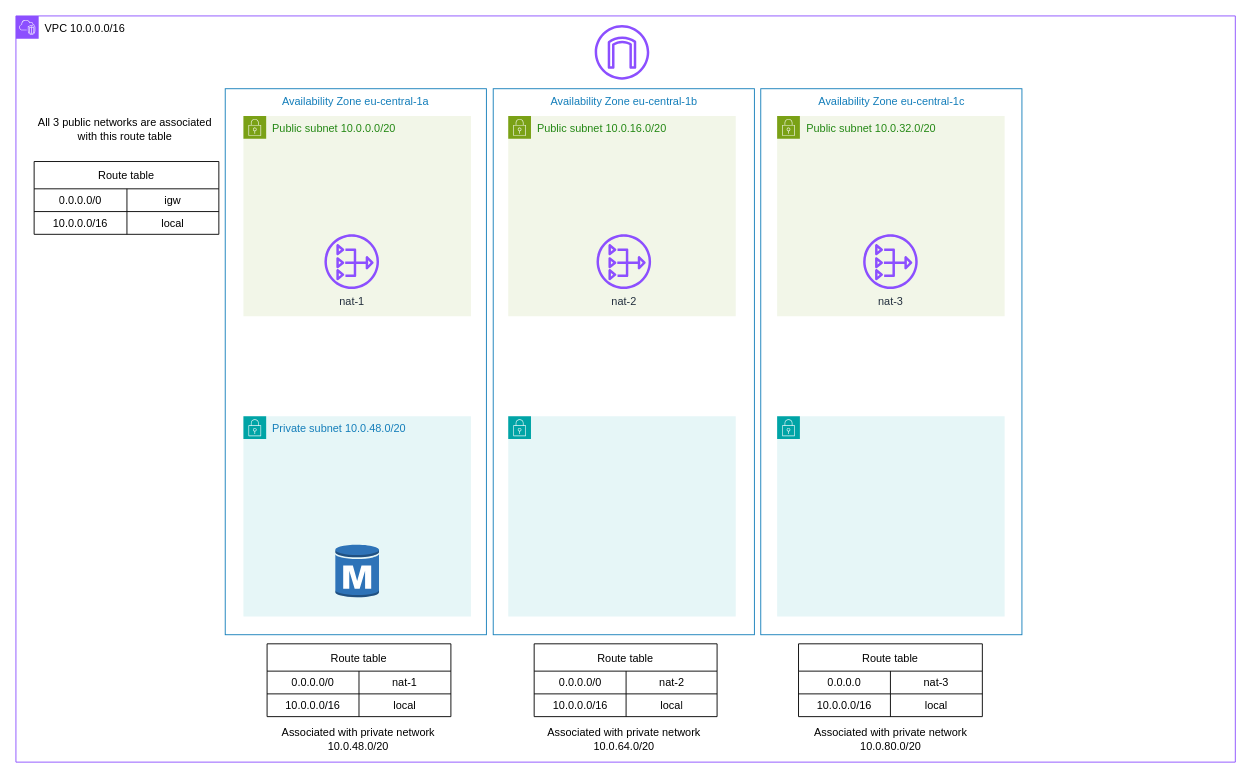
Image size: 1251x778. Some labels were removed from this diagram. Each missing label, with the centre of its shape:
"Private subnet 10.0.64.0/20" goes at (x=621, y=516).
"Private subnet 10.0.80.0/20" goes at (x=890, y=516).
